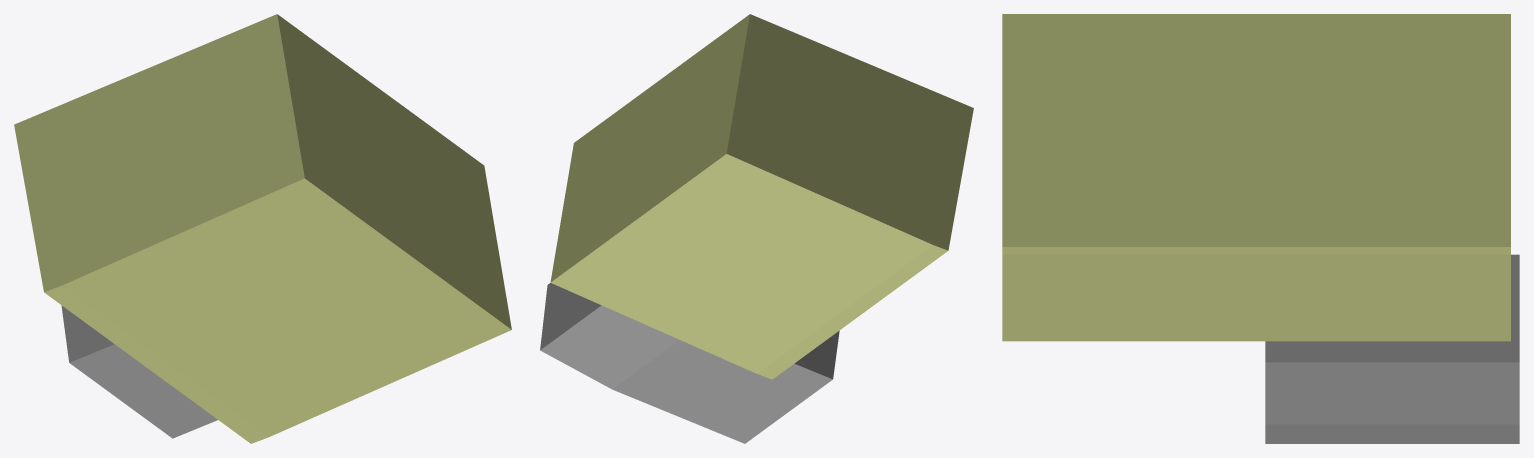
3 renders of one model, left to right at view 1: azimuth 30°, elevation 25°; view 2: azimuth 150°, elevation 25°; view 3: azimuth 270°, elevation 25°, orthographic. The views are drawn at different scales.
Parts seen in each view (by area): view 1: 0_1_2_0_1_3_3_1_3_0_3; view 2: 0_1_2_0_1_3_3_1_3_0_3; view 3: 0_1_2_0_1_3_3_1_3_0_3.
Boxes of the visible parts, x1,y1,x2,y2 form: 0_1_2_0_1_3_3_1_3_0_3: (14,14,511,443); 0_1_2_0_1_3_3_1_3_0_3: (540,14,973,443); 0_1_2_0_1_3_3_1_3_0_3: (1002,14,1519,443).
Size of the model in its own units: 5.01 by 4.82 by 6.1.
